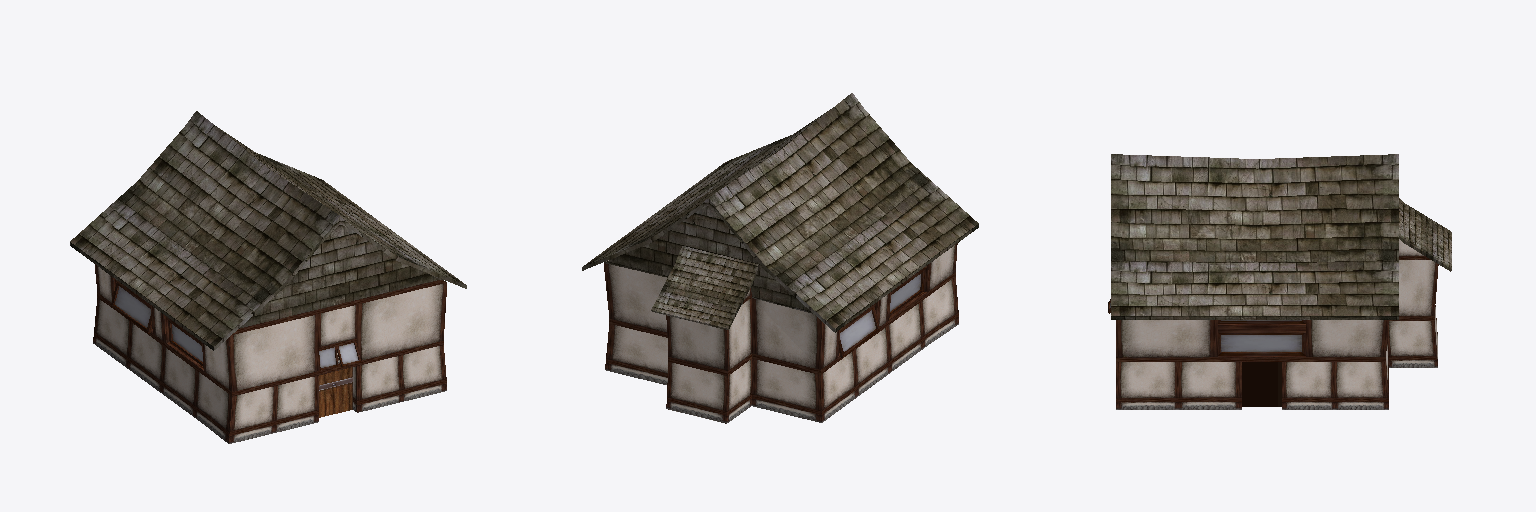
3 views of the same model, side by side, from view 1: azimuth 30°, elevation 25°; view 2: azimuth 150°, elevation 25°; view 3: azimuth 270°, elevation 25° (orthographic).
Visible parts, largest first — view 1: Mesh; view 2: Mesh; view 3: Mesh.
Boxes of the visible parts, x1,y1,x2,y2 form: Mesh: [70, 111, 466, 443]; Mesh: [582, 93, 978, 423]; Mesh: [1108, 154, 1451, 409].
Bounding box in the file's own units: 6.6 × 5.08 × 7.78.
4 materials, 4 textured.